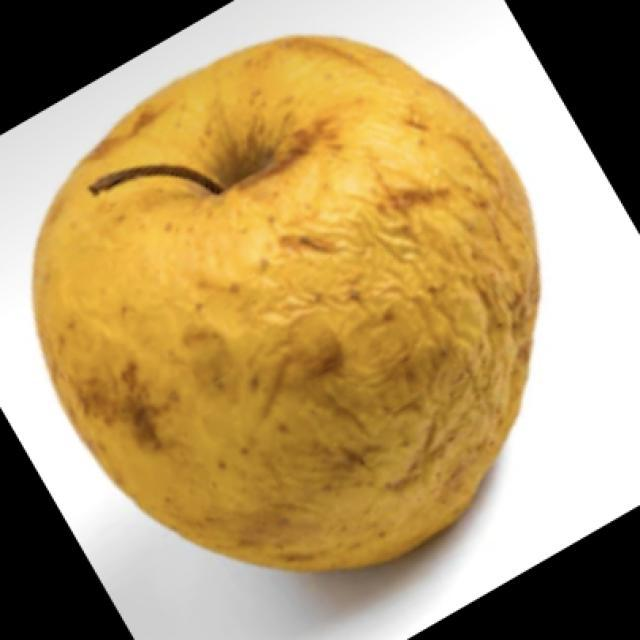Rotten: (37, 40, 540, 558)
